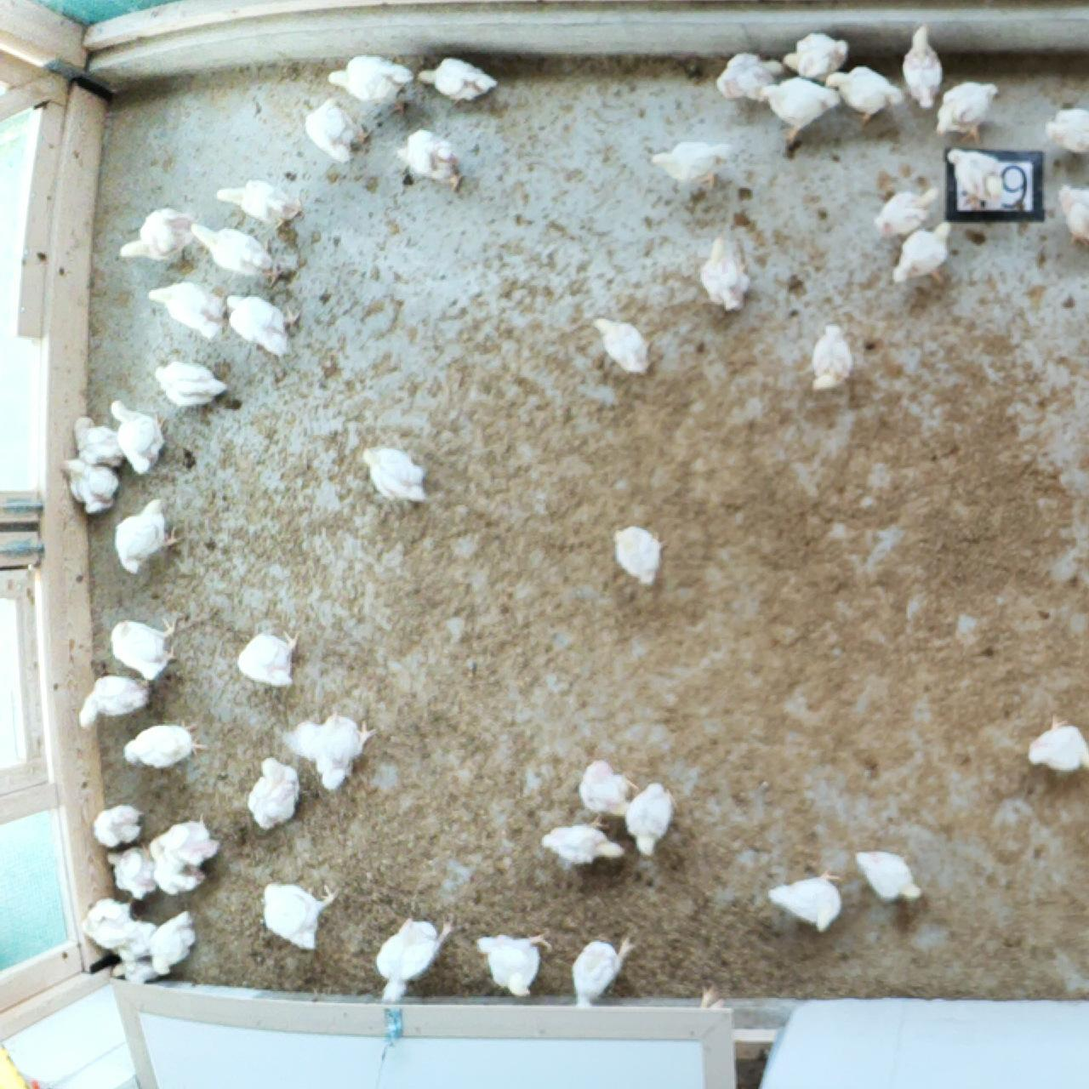chicken: (371, 920, 459, 1002), (292, 710, 373, 790), (261, 884, 341, 949), (112, 498, 176, 578), (194, 222, 283, 277), (570, 938, 636, 1008), (474, 934, 547, 996), (228, 291, 296, 356), (759, 78, 830, 140), (765, 875, 842, 932), (244, 757, 300, 835), (124, 723, 207, 775), (820, 72, 909, 120), (654, 135, 733, 189), (328, 58, 408, 111), (82, 902, 156, 958), (123, 208, 195, 265), (152, 284, 228, 338), (361, 444, 428, 505), (398, 133, 468, 191), (577, 759, 639, 823), (305, 104, 370, 163), (539, 825, 626, 869), (948, 143, 1011, 202), (896, 224, 954, 288), (802, 326, 859, 391), (71, 677, 150, 723), (626, 783, 675, 857), (58, 454, 118, 514), (214, 183, 301, 224), (111, 404, 163, 472), (702, 237, 750, 310), (1023, 722, 1089, 775), (853, 852, 919, 903), (235, 631, 292, 690), (152, 360, 226, 405), (937, 83, 1001, 135), (112, 620, 171, 676), (609, 523, 663, 584), (151, 819, 217, 868), (597, 316, 652, 373), (419, 61, 499, 100), (872, 187, 932, 237), (905, 23, 942, 102), (150, 915, 194, 980), (711, 58, 790, 93), (86, 801, 141, 849), (786, 33, 850, 74), (157, 848, 210, 896), (109, 845, 156, 898), (75, 417, 124, 466), (1046, 111, 1089, 157), (1064, 183, 1084, 243), (121, 961, 156, 981), (701, 989, 727, 1015)
